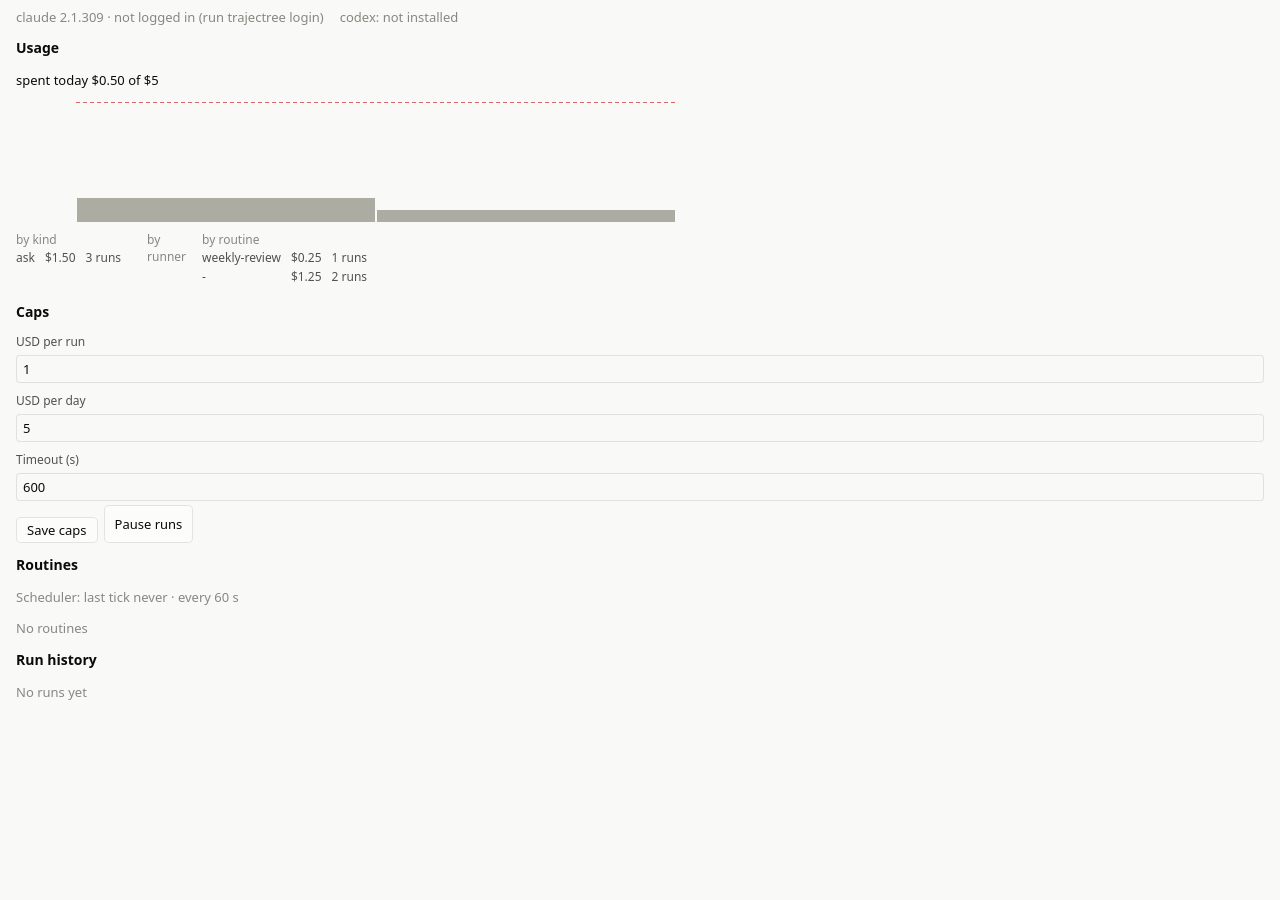
Test case: RunsView › refuses to save caps that are not positive numbers
Clear the number field labelled "USD per day" at (640, 428), box x1=16 y1=414 x2=1264 y2=442
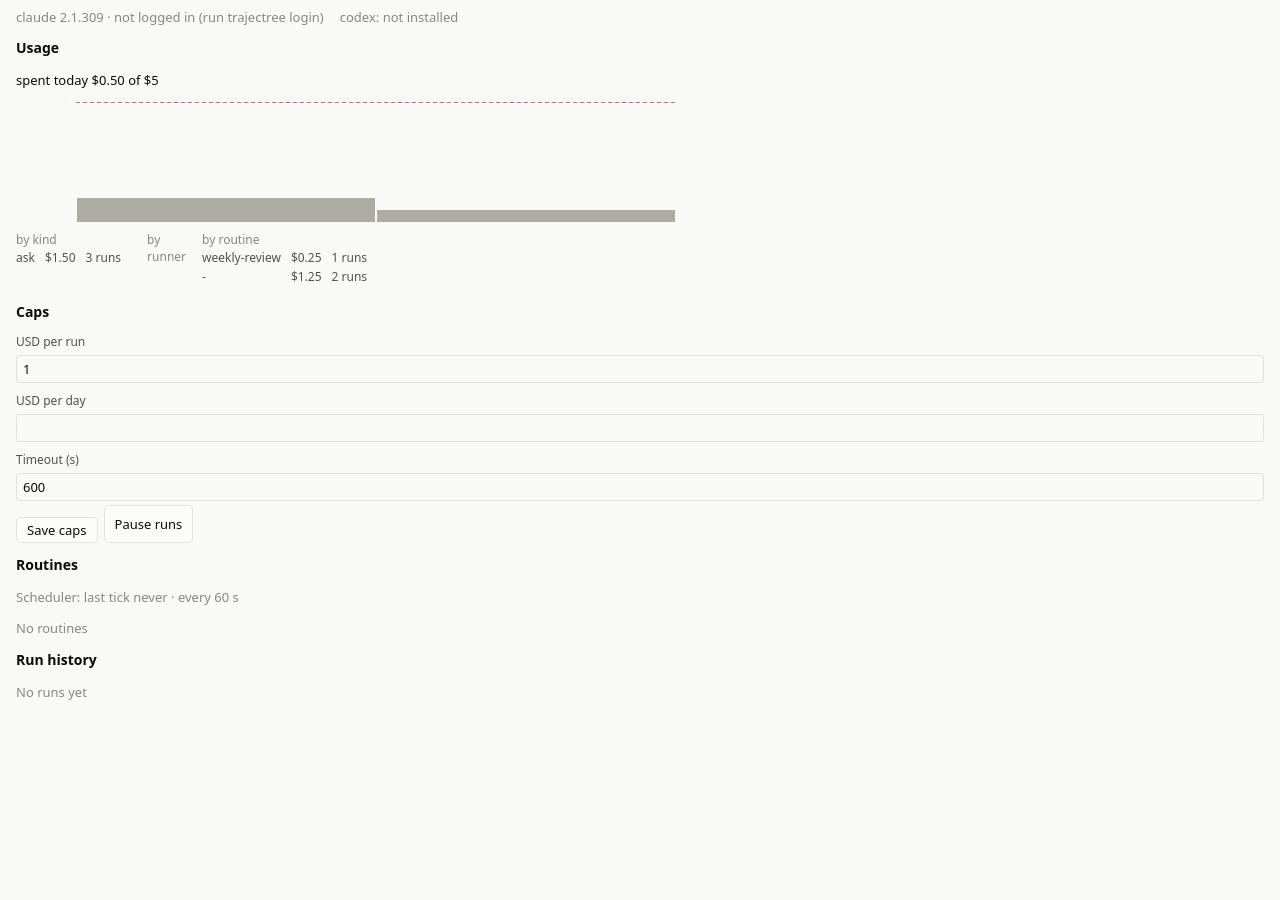
Click the button "Save caps" at (57, 530), box x1=16 y1=517 x2=98 y2=543
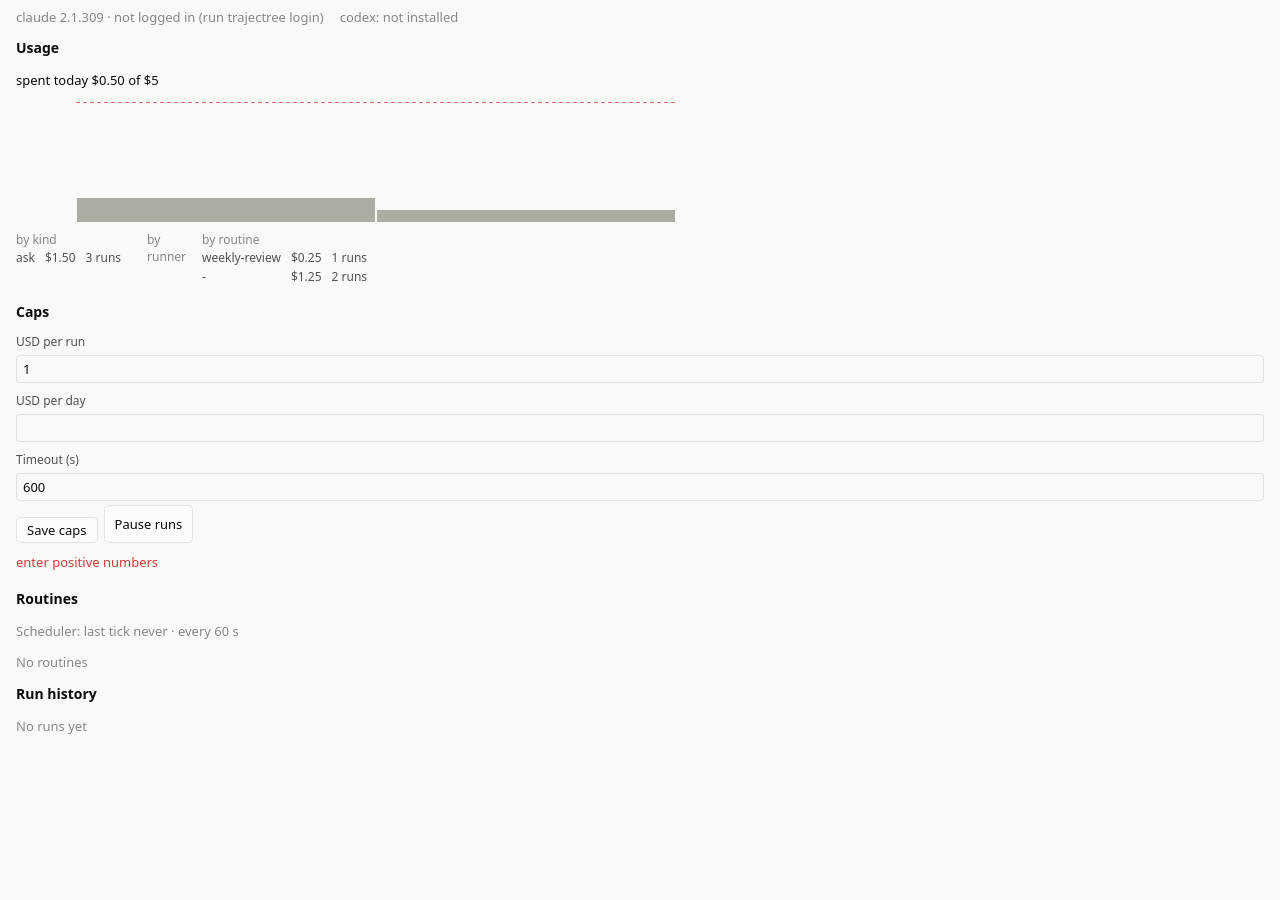
Result: the text "enter positive numbers" is shown at x1=16 y1=553 x2=158 y2=571
